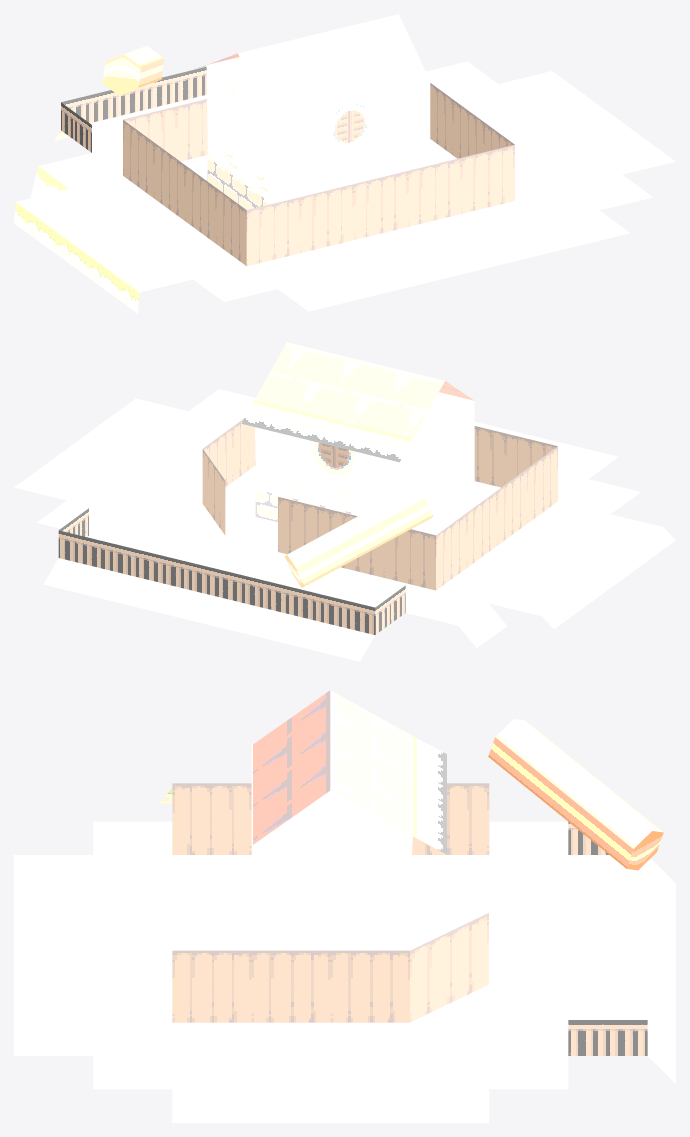
Rendered from sprytile_practice.glb.
3 renders of one model, top to bottom at view 1: azimuth 30°, elevation 25°; view 2: azimuth 150°, elevation 25°; view 3: azimuth 270°, elevation 25°, orthographic. The views are drawn at different scales.
Visible parts, largest first — view 1: Cube; view 2: Cube; view 3: Cube.
Boxes of the visible parts, box(x1,y1,x2,y2) form: Cube: box(14, 14, 675, 313); Cube: box(14, 342, 675, 661); Cube: box(14, 690, 675, 1122).
Bounding box in the file's own units: 10.13 × 3.18 × 8.36.
